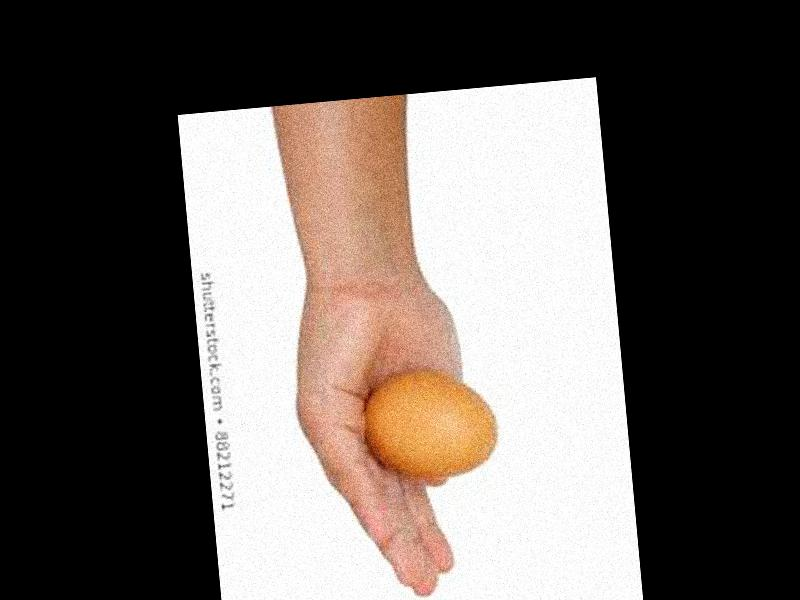Eggs: (358, 364, 502, 484)
